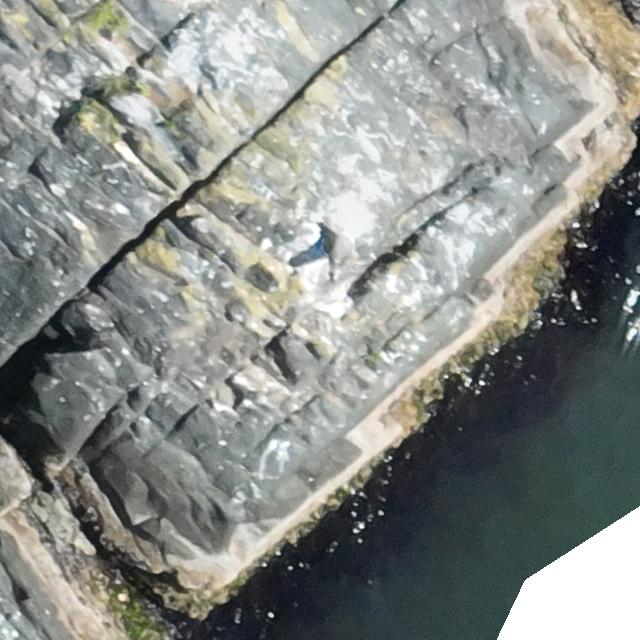umineko: (328, 224, 354, 278)
